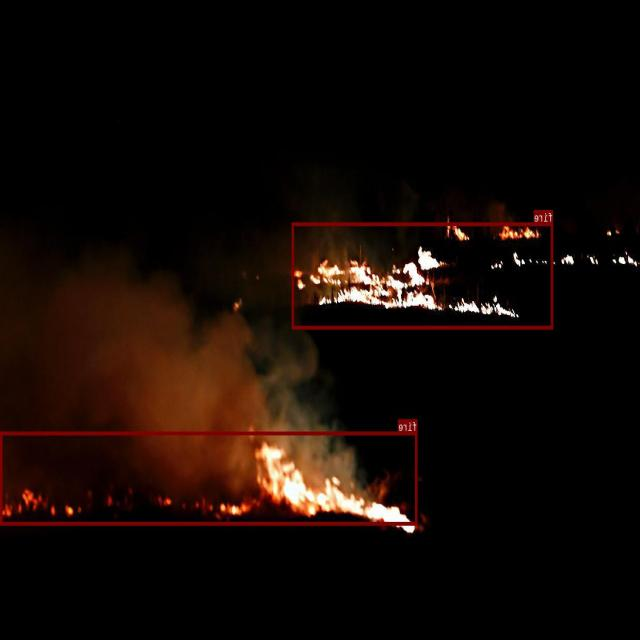fire: (1, 431, 418, 524), (292, 222, 554, 328)
